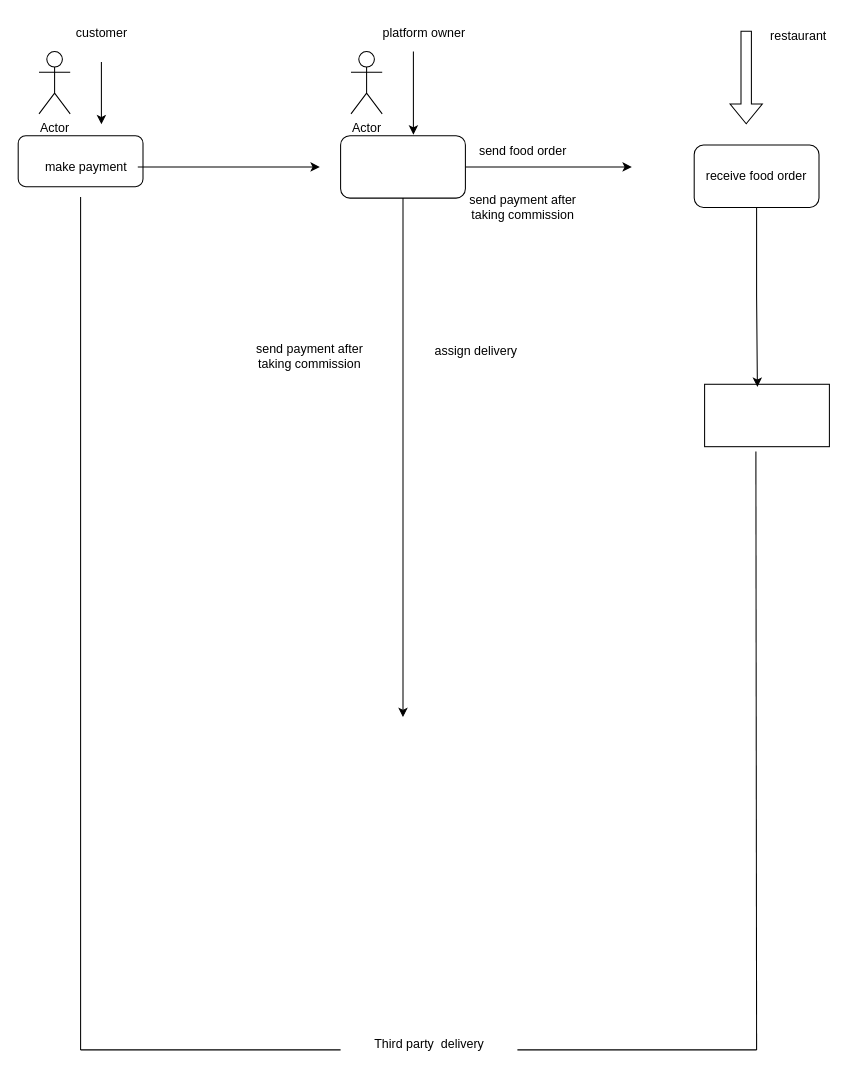
Image size: 858x1077. Some labels were removed from this diagram. Here are the shapes that lost their labels. From the top down, the centre of each, then its label:
[402,166]: receive food order/ payment
[766,415]: prepare & pack food
